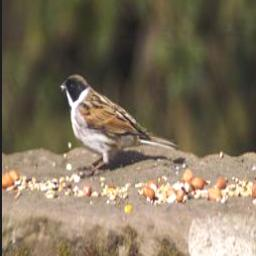Sparrow: (58, 72, 177, 175)
